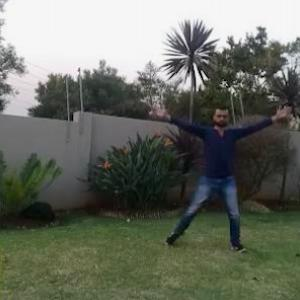takeoff: (146, 96, 292, 252)
